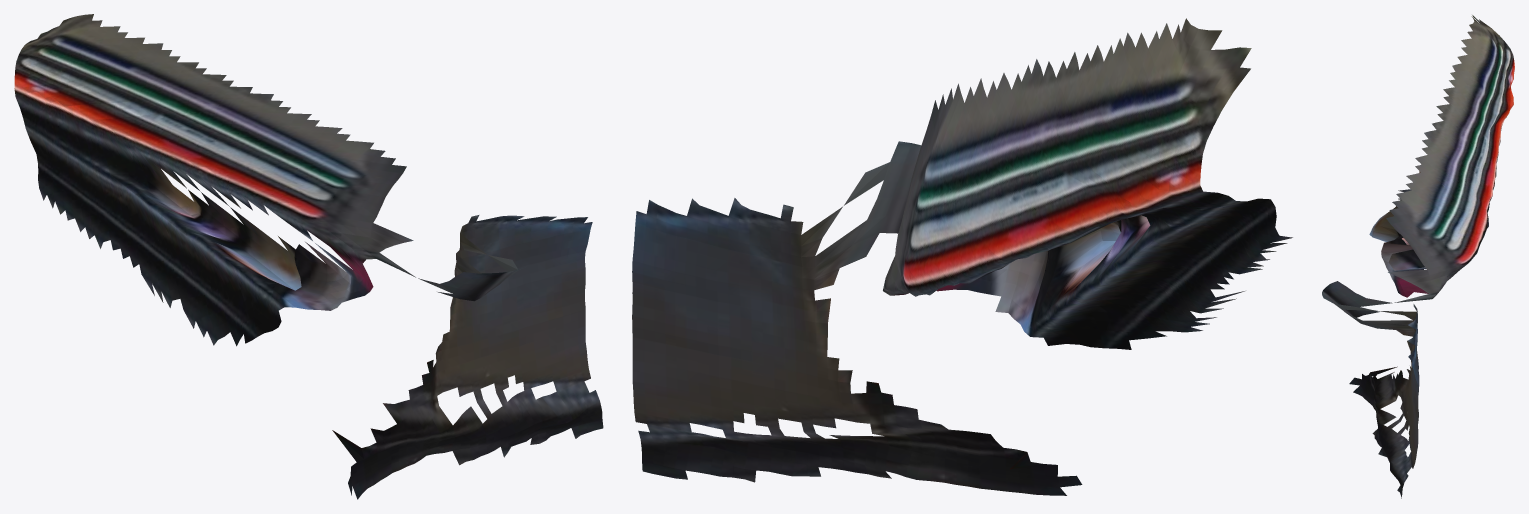
The model's file is observed-surface.glb.
3 views of the same model, side by side, from view 1: azimuth 30°, elevation 25°; view 2: azimuth 150°, elevation 25°; view 3: azimuth 270°, elevation 25° (orthographic). The views are drawn at different scales.
Parts seen in each view (by area): view 1: geometry_0; view 2: geometry_0; view 3: geometry_0.
Boxes of the visible parts, box(x1,y1,x2,y2) form: geometry_0: box(14, 14, 603, 499); geometry_0: box(632, 18, 1292, 495); geometry_0: box(1322, 15, 1514, 498).
Size of the model in its own units: 0.5168 by 0.4617 by 0.2472.
Materials: 1 (1 with a texture image).
